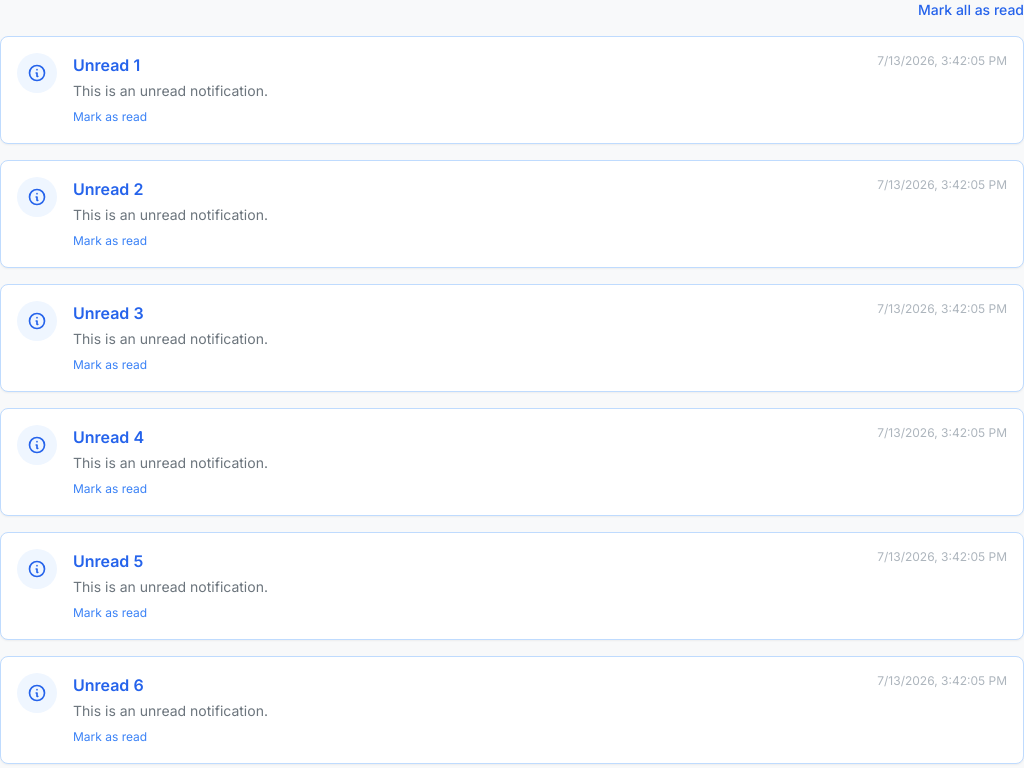
Test: NotificationList › marks all as read
Click the button "Mark all as read" at [971, 10], box [918,0,1023,20]
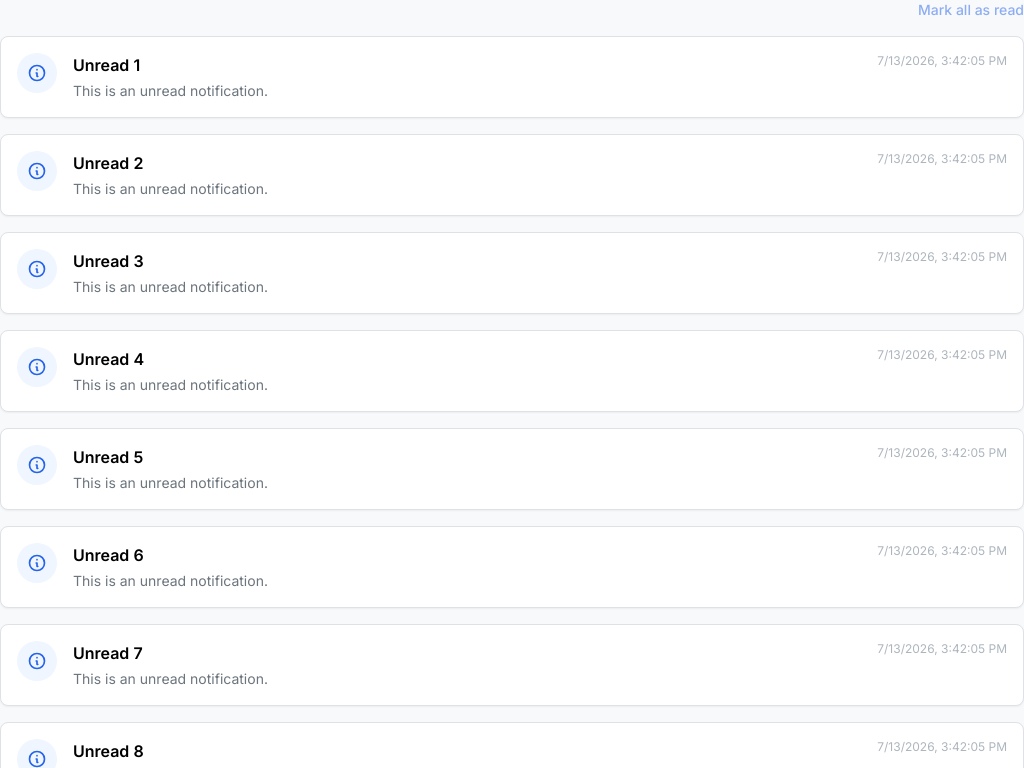
Check: the button "Mark as read" is gone
